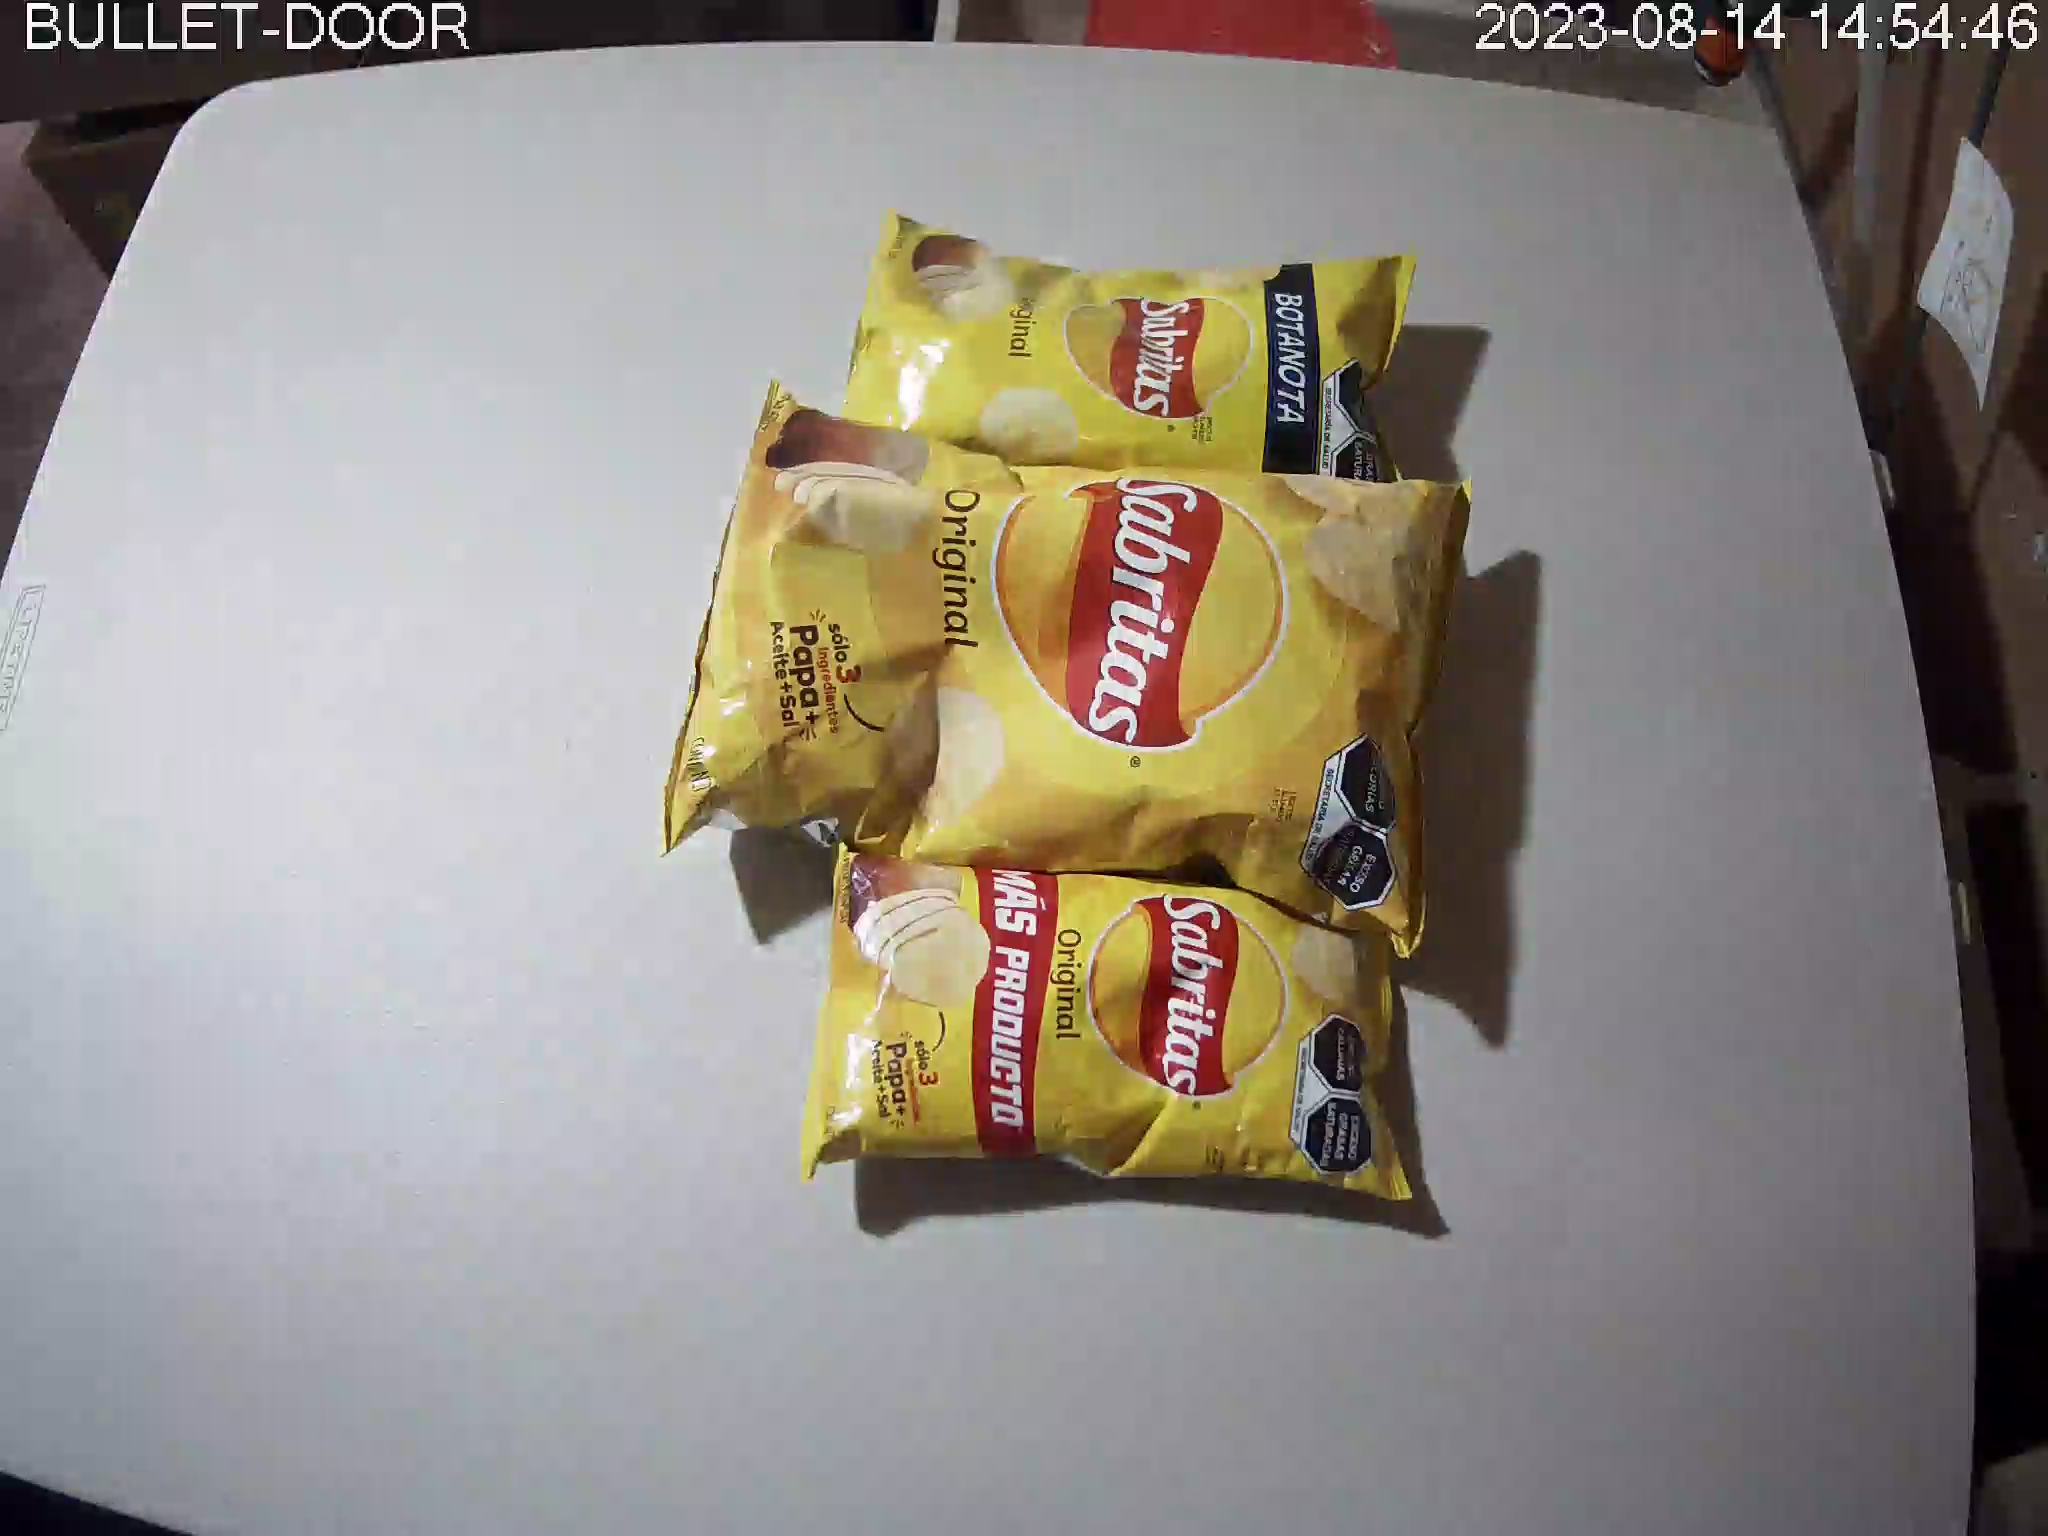Sabritas_160_F: (660, 376, 1476, 955)
Sabritas_45_F: (800, 841, 1414, 1204)
Sabritas_64_F: (834, 203, 1421, 502)
